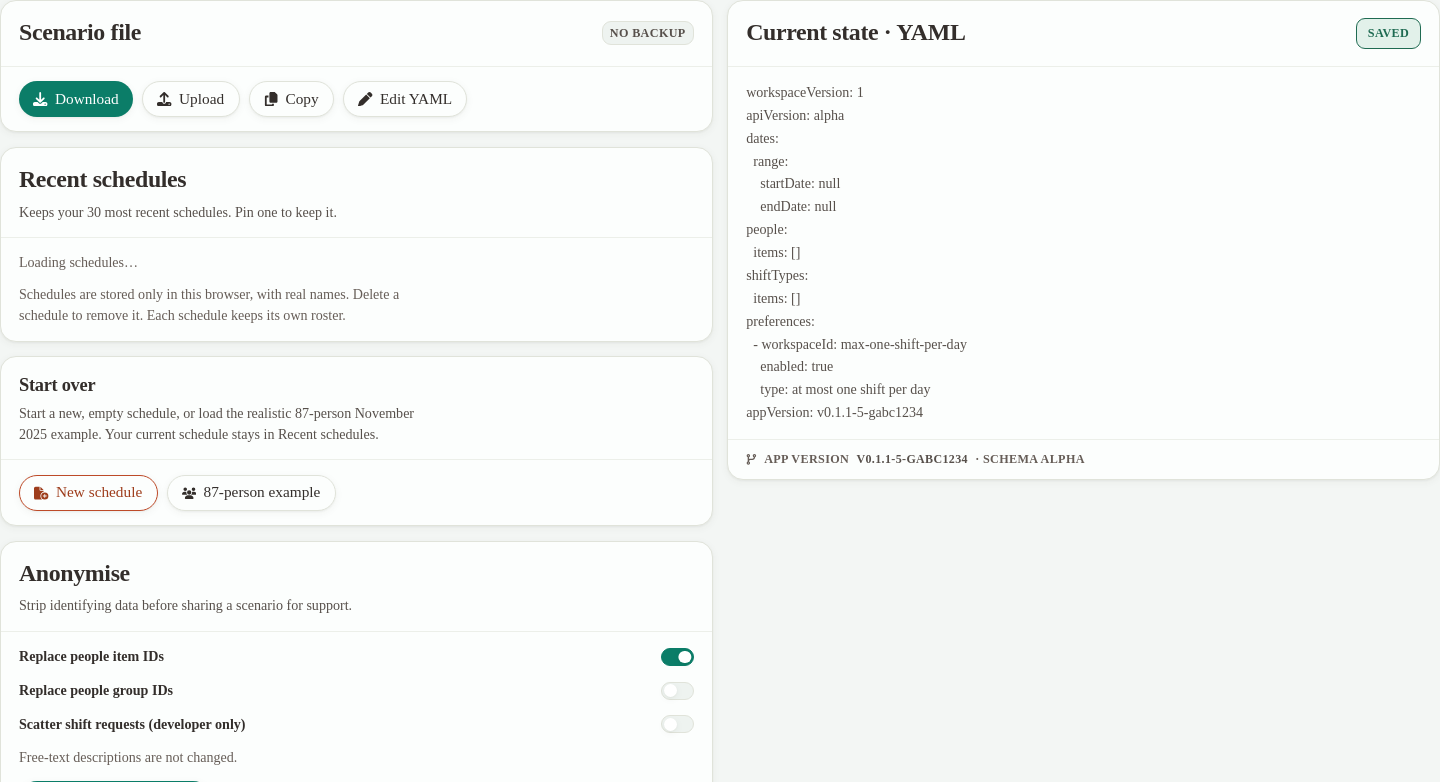
Test: SaveLoadWorkspace — Upload flow › a valid file with a matching app version loads directly into an empty workspace: fresh scenario identity, unknown baseline
The width and height of the screenshot is (1440, 782).
What coordinates should you click on to do the following:
click the button with test id "scenario-upload-button"
I would click on:
 (191, 99)
Its box is [142,81,240,117].
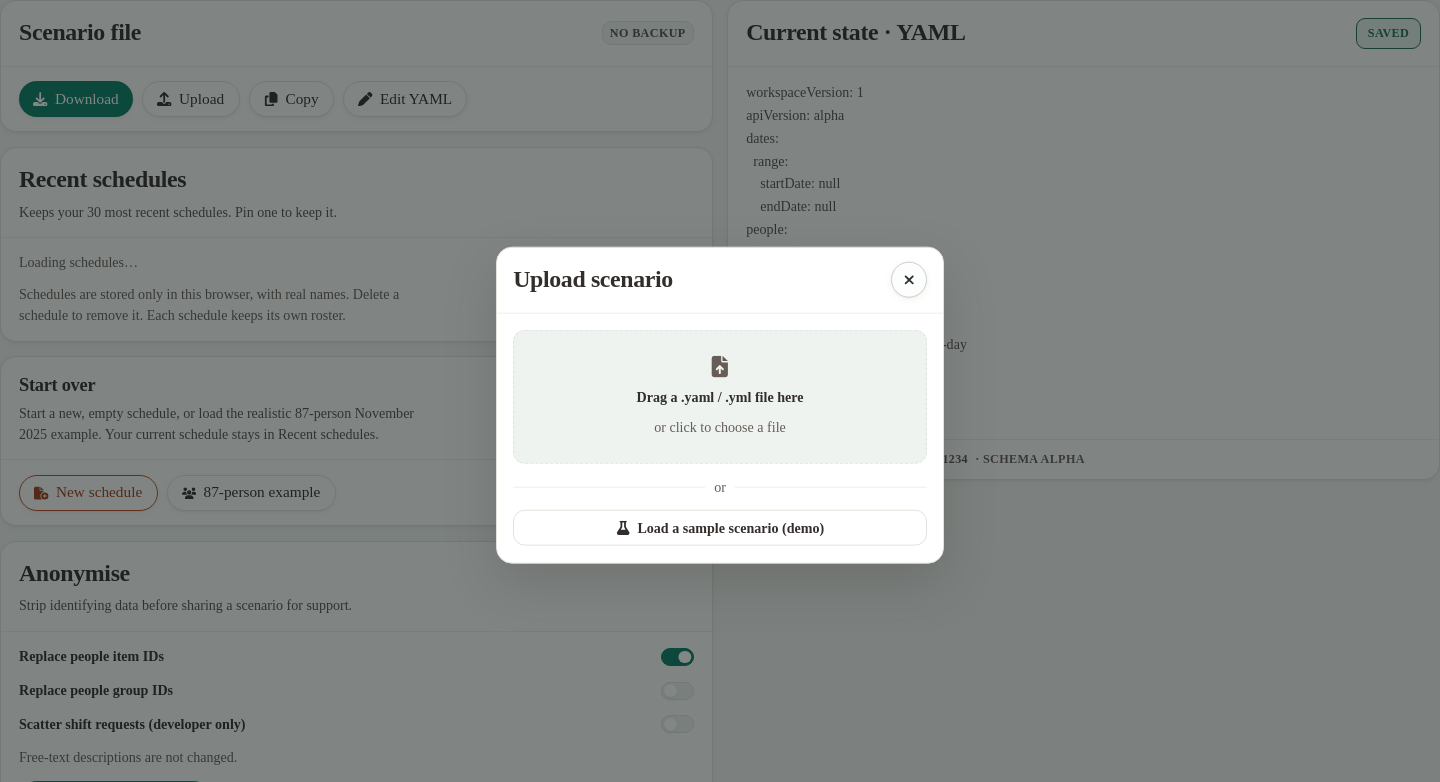
Check: the dialog with test id "upload-modal" is shown, box [496,247,944,563]
